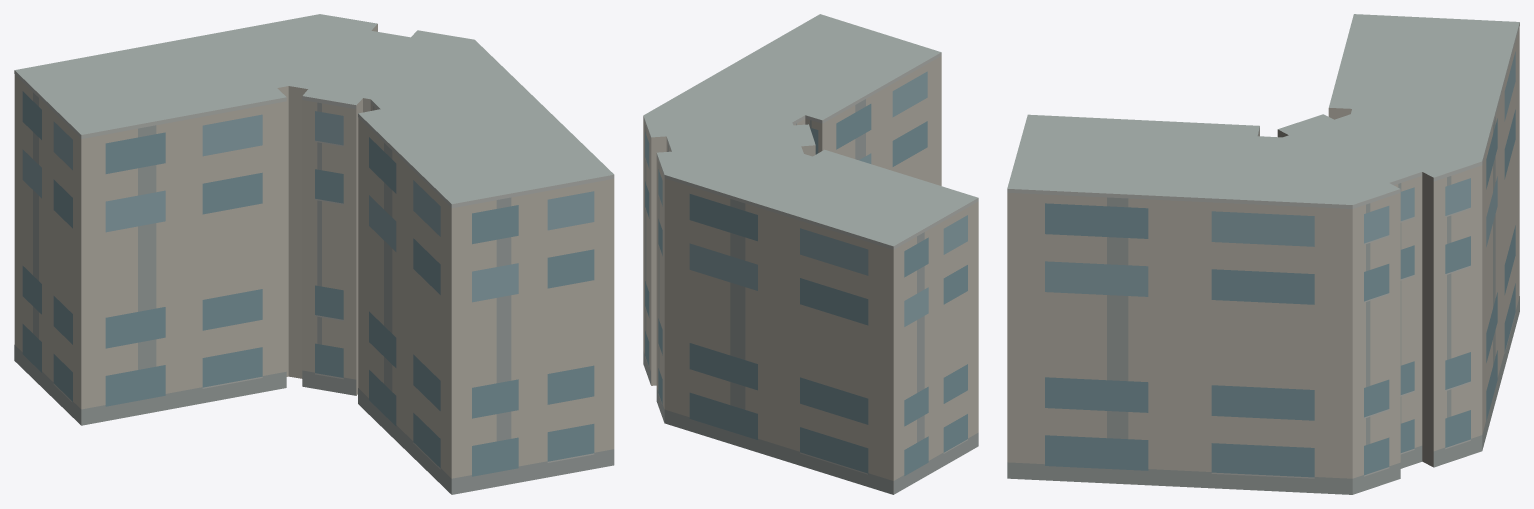
File: survey-upis-33041628.glb
3 renders of one model, left to right at view 1: azimuth 30°, elevation 25°; view 2: azimuth 150°, elevation 25°; view 3: azimuth 270°, elevation 25°, orthographic. The views are drawn at different scales.
Visible parts, largest first — view 1: survey-upis-33041628.tmp; view 2: survey-upis-33041628.tmp; view 3: survey-upis-33041628.tmp.
Boxes of the visible parts, <box> form: survey-upis-33041628.tmp: <box>14,14,614,494</box>; survey-upis-33041628.tmp: <box>643,14,978,494</box>; survey-upis-33041628.tmp: <box>1007,14,1519,494</box>.
Size of the model in its own units: 25.17 by 17.79 by 28.53.
